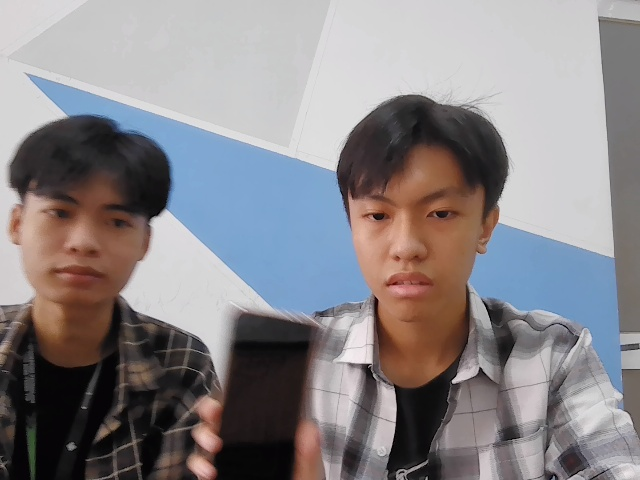human: (328, 86, 514, 320), (8, 110, 171, 301)
phone: (200, 299, 323, 477)
